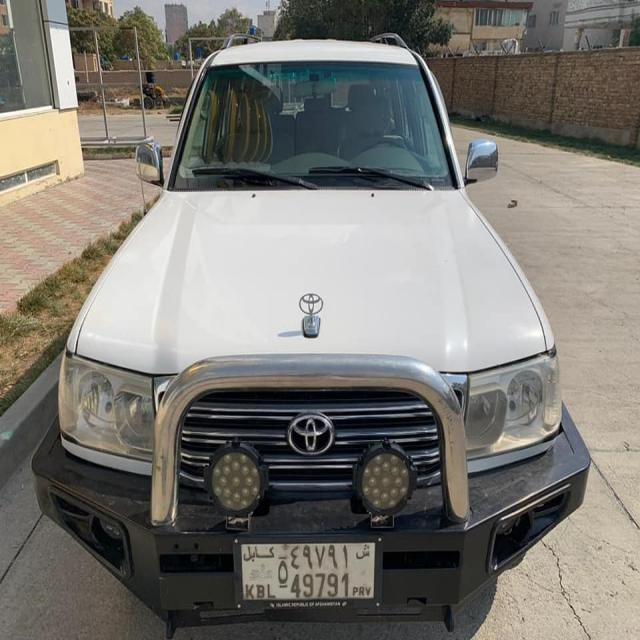Plate: (232, 531, 384, 609)
